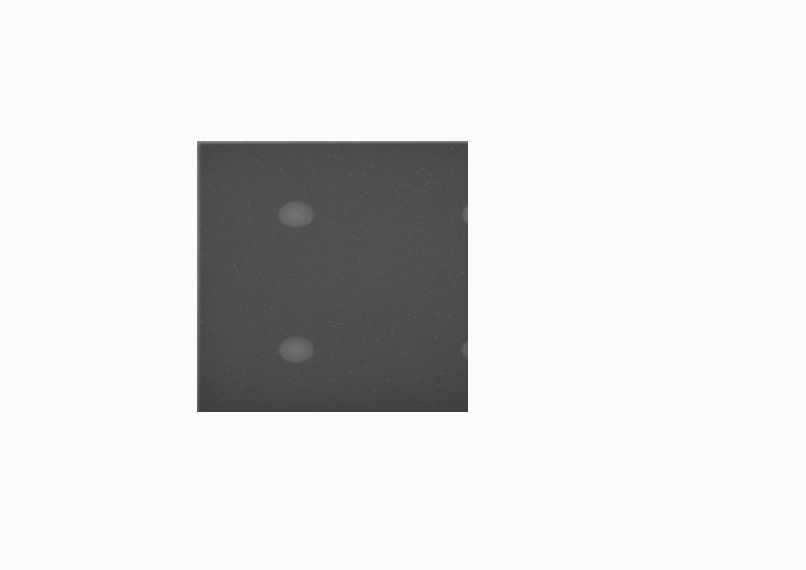bubble: (277, 336, 313, 363), (279, 201, 313, 228), (460, 205, 468, 221), (459, 342, 467, 356)
